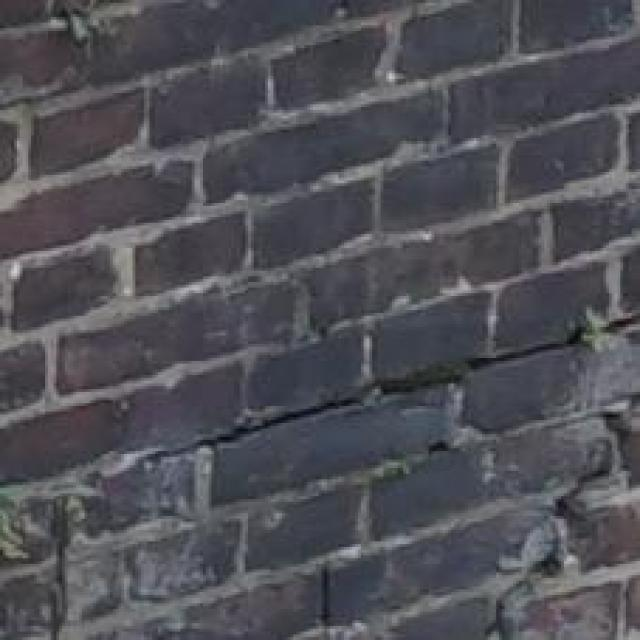Crack: (77, 314, 640, 640)
